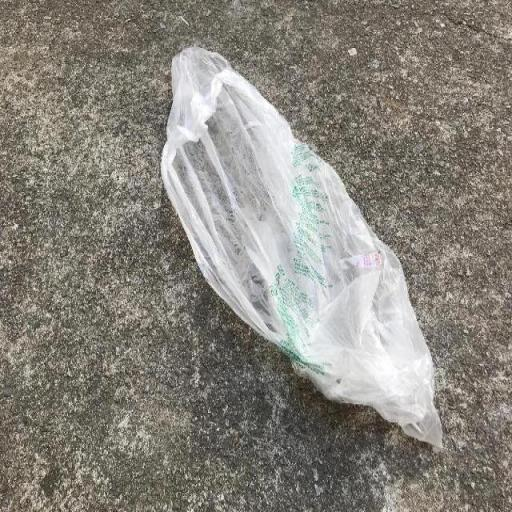plastic-bag: (160, 42, 449, 456)
